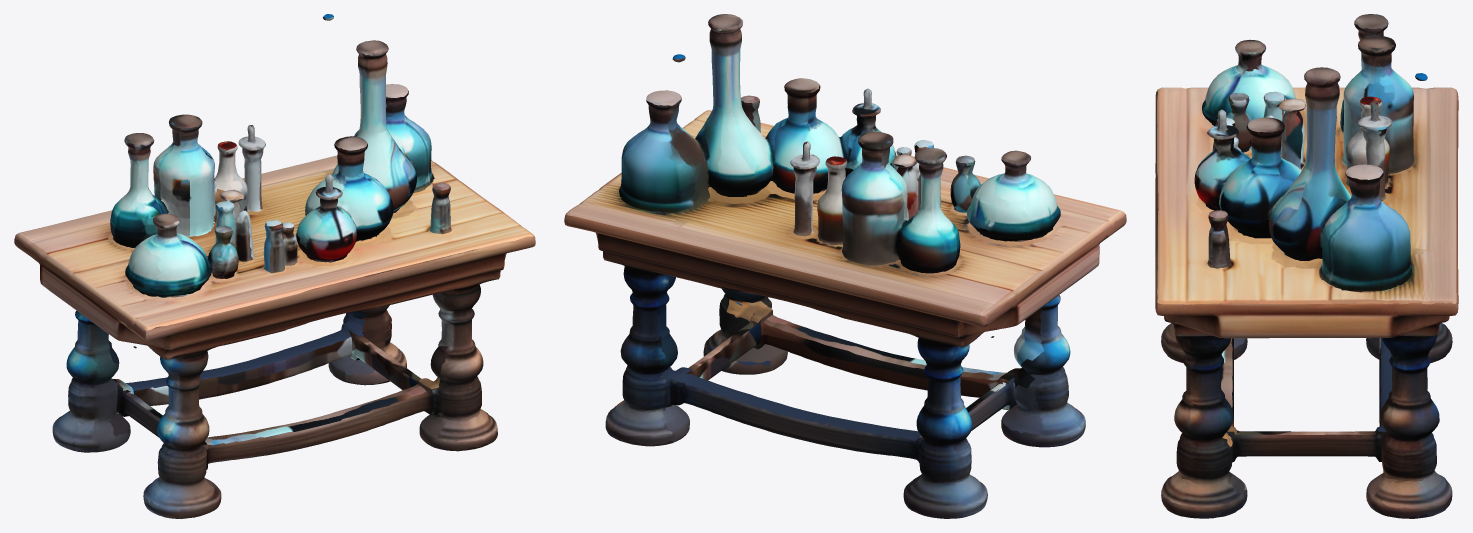
Rendered from mesa_laboratorio.glb.
The picture shows the model from 3 angles, left to right: view 1: azimuth 30°, elevation 25°; view 2: azimuth 150°, elevation 25°; view 3: azimuth 270°, elevation 25°; orthographic projection. The views are drawn at different scales.
Parts seen in each view (by area): view 1: tmps_03esj9.ply; view 2: tmps_03esj9.ply; view 3: tmps_03esj9.ply.
Boxes of the visible parts, bbox=[...] form: tmps_03esj9.ply: bbox=[14, 14, 535, 518]; tmps_03esj9.ply: bbox=[564, 14, 1126, 518]; tmps_03esj9.ply: bbox=[1155, 14, 1458, 518].
Bounding box in the file's own units: 0.9908 × 0.8658 × 0.5808.
Materials: 1 (1 with a texture image).
